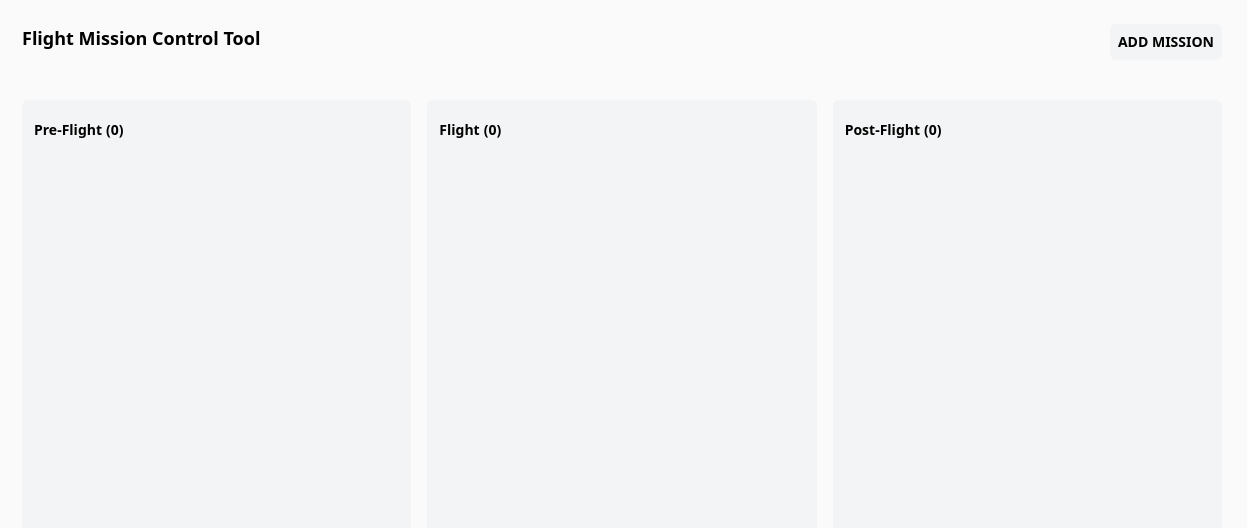
Test: FlightBoard Component › opens and closes the AddFlightModal
This screenshot has width=1247, height=528.
Click the button "ADD MISSION" at point(1166, 42), box top-left (1110, 24), bottom-right (1222, 60)
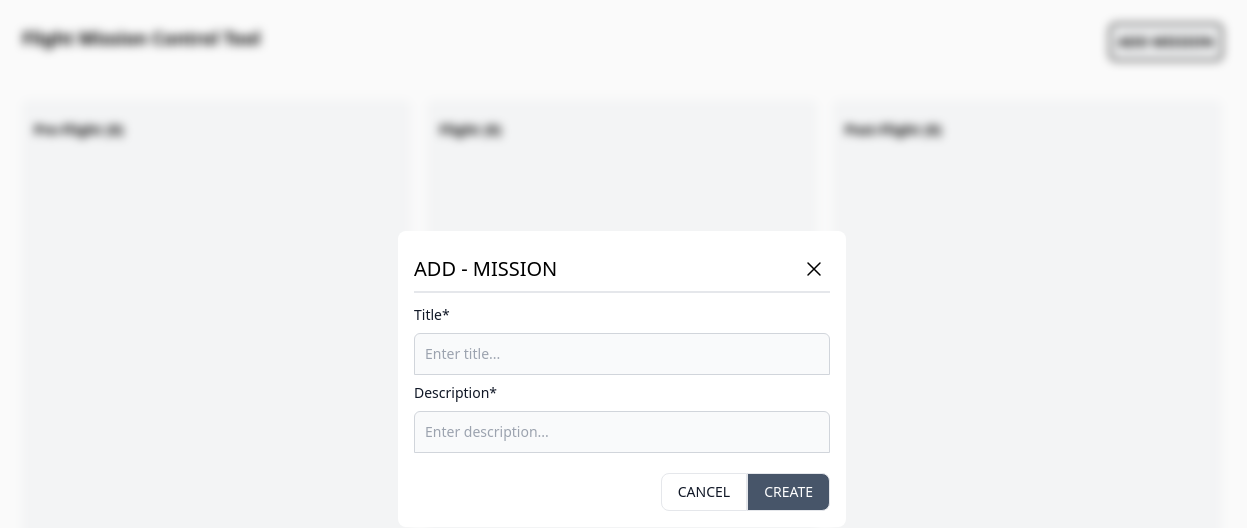
Expected: the heading "ADD - MISSION" is shown, top-left (414, 255), bottom-right (557, 283)
Click the button "CANCEL" at point(704, 492), box top-left (661, 473), bottom-right (747, 511)
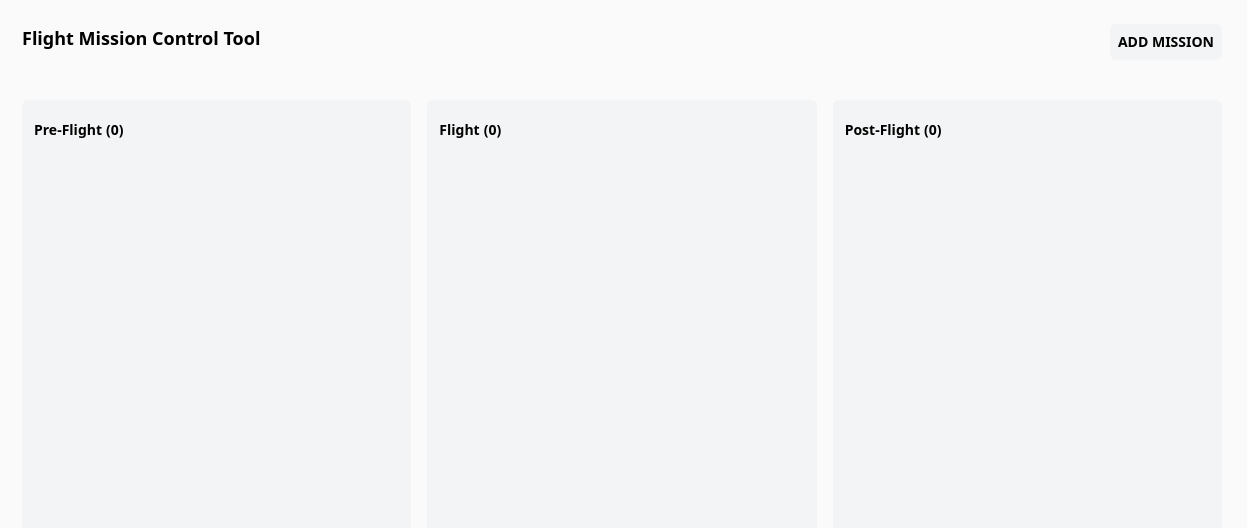
Expected: the heading "ADD - MISSION" is gone
